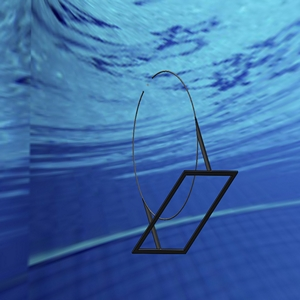circle: (129, 68, 238, 255)
